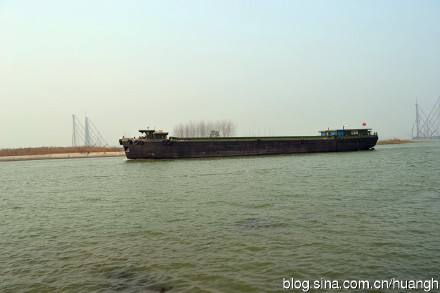boat: (127, 124, 378, 158)
